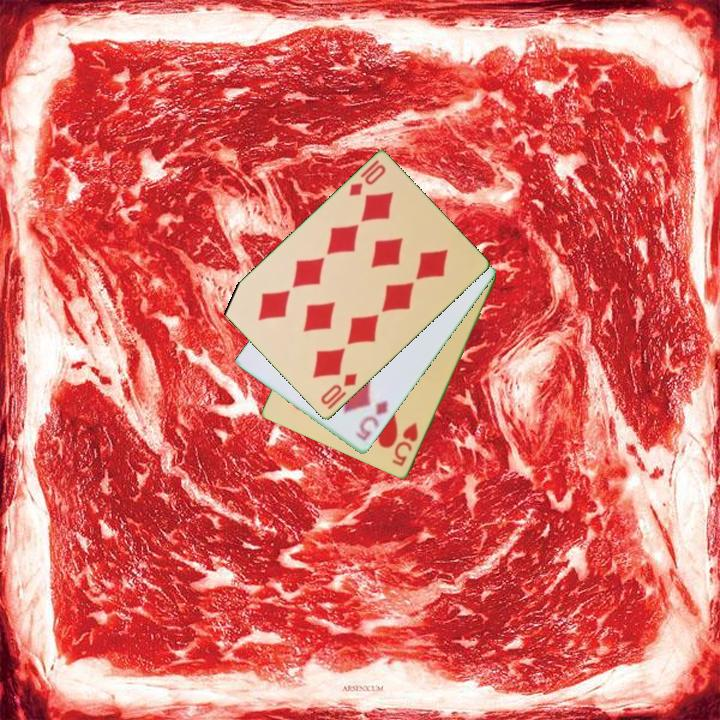10d: (345, 156, 389, 200), (317, 370, 360, 408)
5d: (351, 396, 391, 444)
5h: (389, 419, 421, 470)
